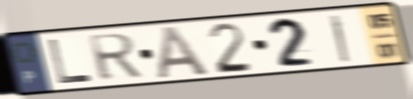2: (266, 15, 321, 71), (206, 21, 254, 75)
A: (155, 24, 213, 81)
I: (328, 13, 353, 65)
L: (46, 37, 95, 85)
R: (85, 31, 146, 83)
